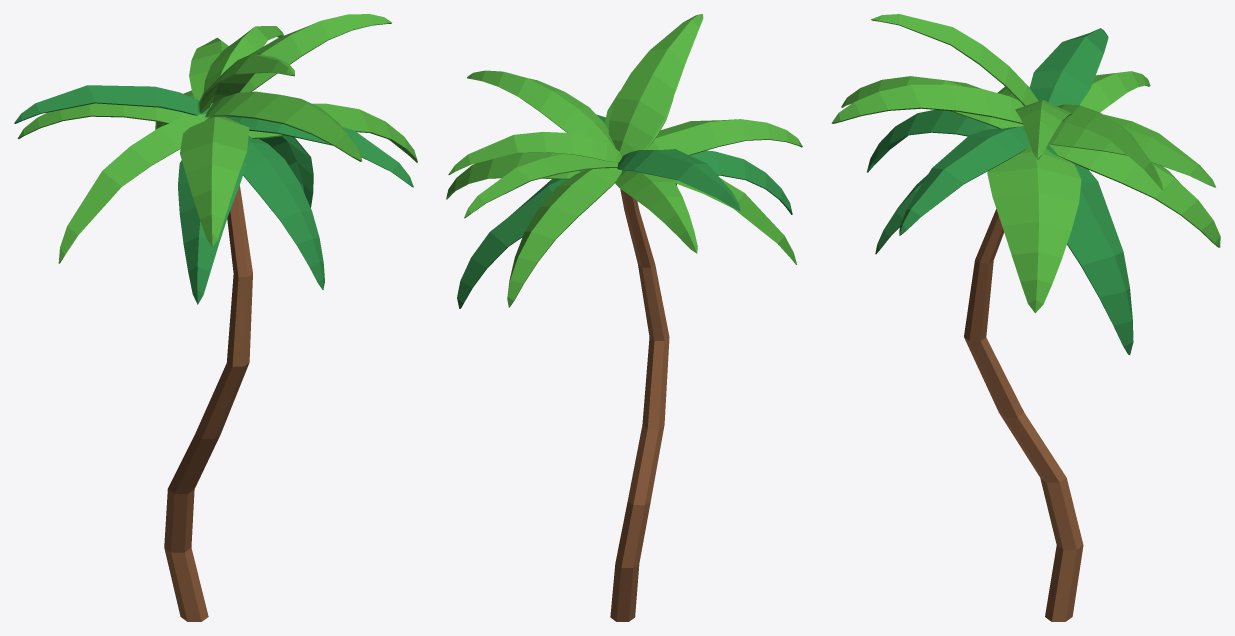
The model's file is palm-giant.glb.
3 views of the same model, side by side, from view 1: azimuth 30°, elevation 25°; view 2: azimuth 150°, elevation 25°; view 3: azimuth 270°, elevation 25° (orthographic). The views are drawn at different scales.
Parts seen in each view (by area): view 1: PalmTree_1; view 2: PalmTree_1; view 3: PalmTree_1.
Boxes of the visible parts, x1,y1,x2,y2 form: PalmTree_1: [14, 14, 417, 621]; PalmTree_1: [446, 14, 802, 621]; PalmTree_1: [831, 14, 1220, 621].
Bounding box in the file's own units: 5.75 × 8.94 × 5.22.
